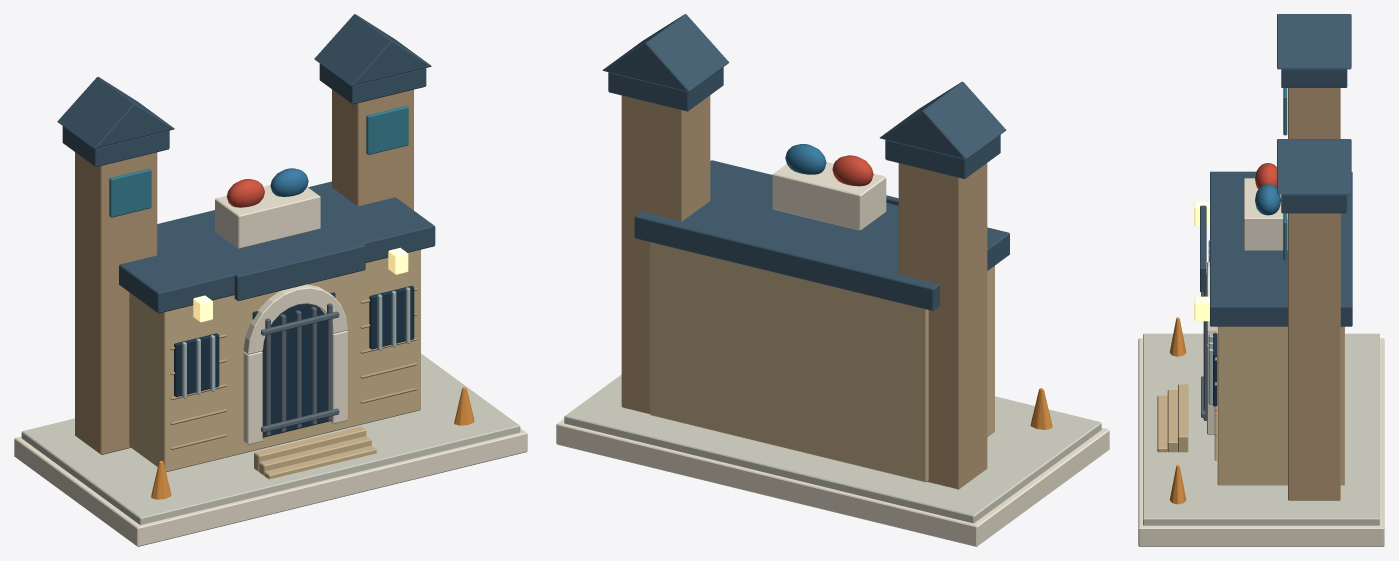
File: go-to-jail.glb
The picture shows the model from 3 angles, left to right: view 1: azimuth 30°, elevation 25°; view 2: azimuth 150°, elevation 25°; view 3: azimuth 270°, elevation 25°; orthographic projection. The views are drawn at different scales.
Visible parts, largest first — view 1: Go to Jail; view 2: Go to Jail; view 3: Go to Jail.
Boxes of the visible parts, x1,y1,x2,y2 form: Go to Jail: (14, 14, 527, 546); Go to Jail: (556, 14, 1109, 546); Go to Jail: (1138, 14, 1384, 546).
Bounding box in the file's own units: 1.47 × 1.36 × 0.8064.
